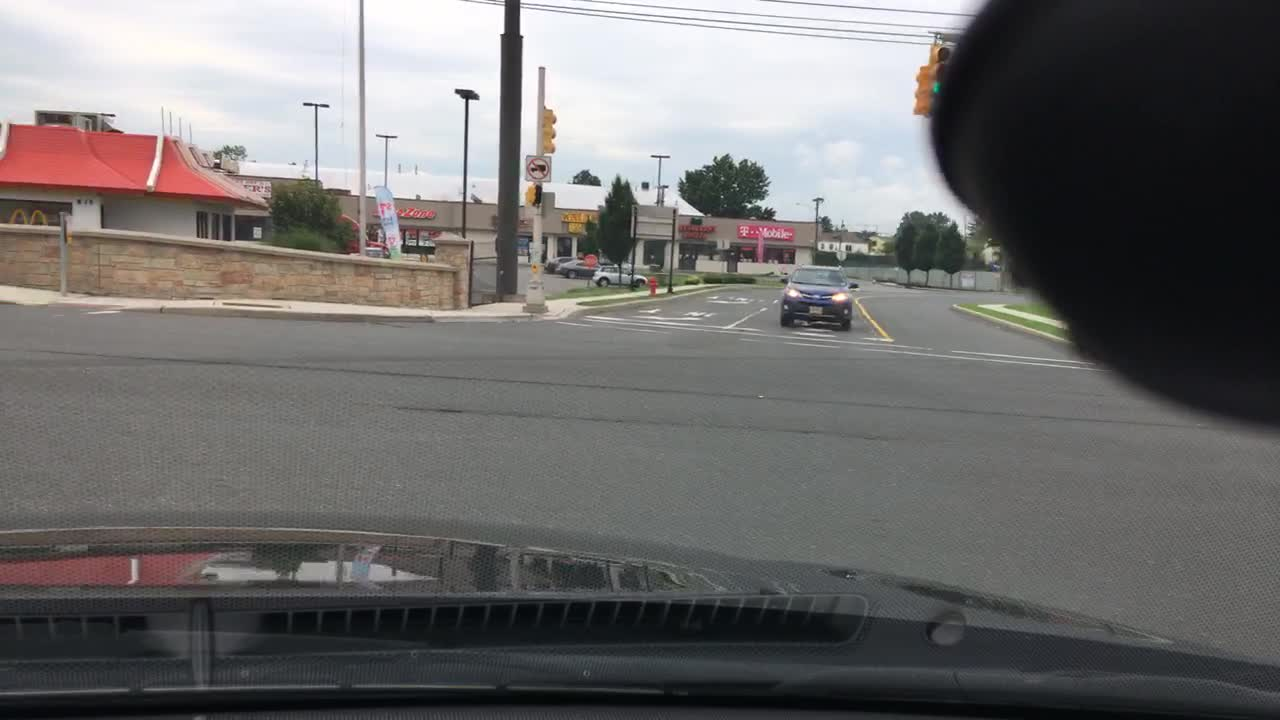car: (776, 263, 857, 331), (592, 265, 648, 288), (555, 258, 617, 277), (541, 253, 582, 270)
traffic light: (921, 44, 953, 118), (908, 61, 923, 115), (543, 104, 555, 152), (523, 184, 543, 207)
traffic sign: (629, 205, 676, 241), (523, 150, 550, 182), (582, 251, 597, 270)
